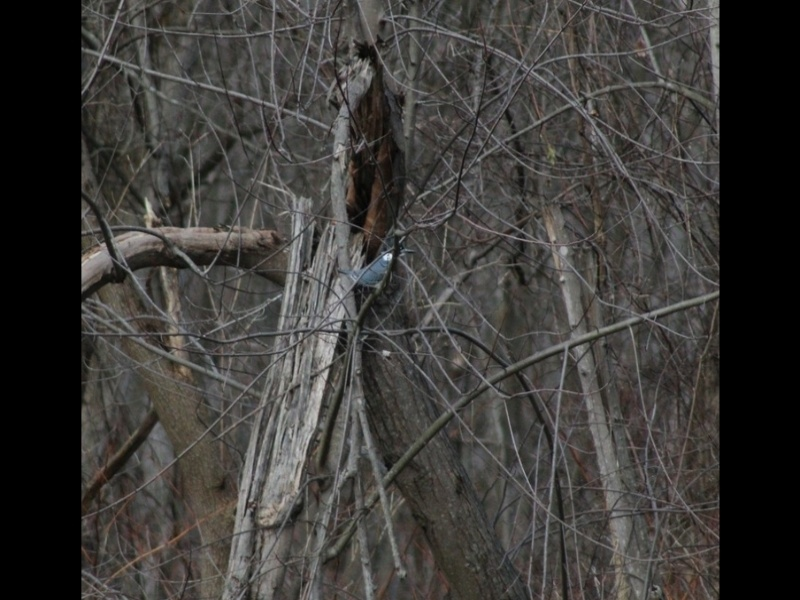kingfisher: (337, 244, 400, 294)
